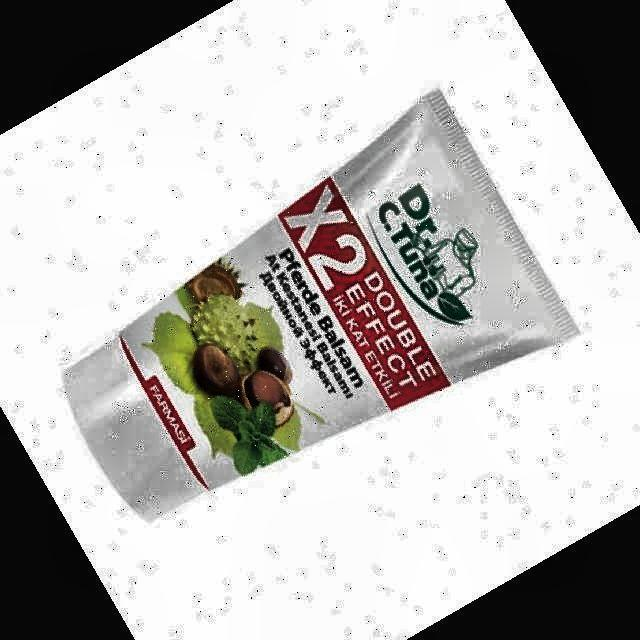plastic: (65, 92, 578, 518)
